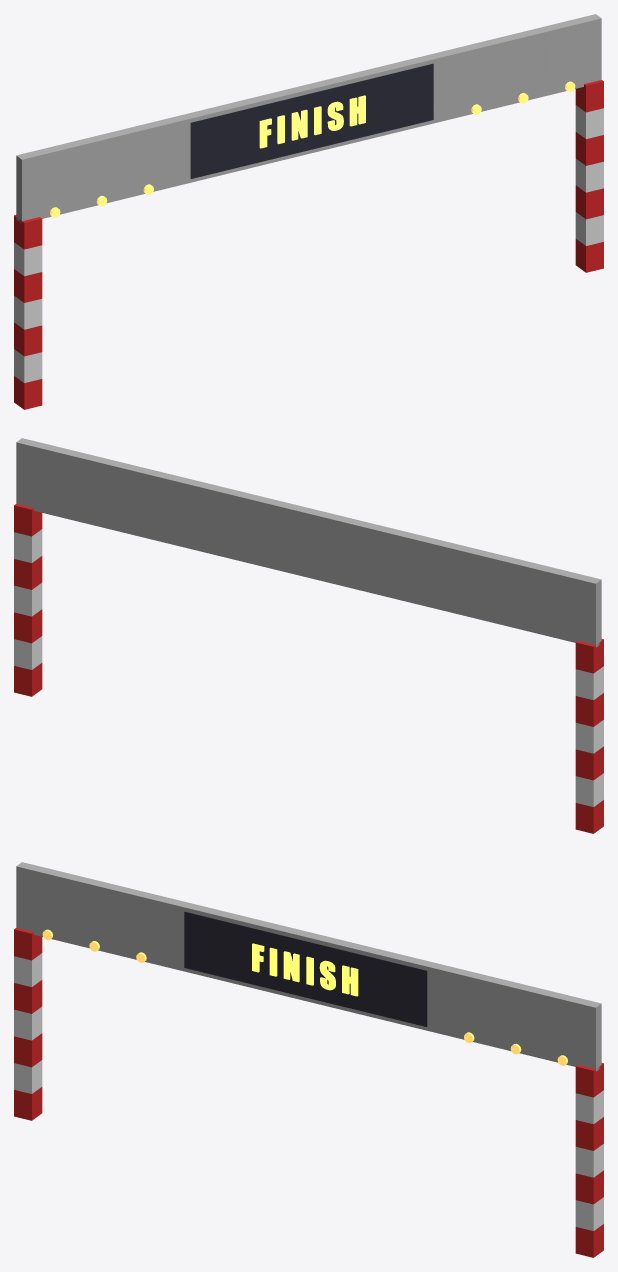
Rendered from gantry_finish.glb.
3 renders of one model, top to bottom at view 1: azimuth 30°, elevation 25°; view 2: azimuth 150°, elevation 25°; view 3: azimuth 330°, elevation 25°, orthographic.
Visible parts, largest first — view 1: banner, lbg, txt, p.006, p.002, p, p.001, p.003, p.010, p.012, p.004, p.009 (+6 smaller); view 2: banner, p.006, p.002, p, p.001, p.003, p.010, p.012, p.004, p.009, p.011, p.005 (+3 smaller); view 3: banner, lbg, txt, p.013, p.009, p.007, p.008, p.003, p.005, p.010, p.002, p.011 (+6 smaller).
Boxes of the visible parts, <box> form: banner: <box>16,14,601,222</box>; lbg: <box>190,63,433,178</box>; txt: <box>259,95,365,148</box>; p.006: <box>14,215,42,249</box>; p.002: <box>14,322,42,356</box>; p: <box>14,376,42,409</box>; p.001: <box>14,349,42,382</box>; p.003: <box>14,296,42,329</box>; p.010: <box>575,158,603,192</box>; p.012: <box>575,105,603,138</box>; p.004: <box>14,269,42,302</box>; p.009: <box>575,185,603,219</box>; banner: <box>16,438,601,647</box>; p.006: <box>575,639,603,673</box>; p.002: <box>575,746,603,780</box>; p: <box>575,800,603,833</box>; p.001: <box>575,773,603,806</box>; p.003: <box>575,720,603,753</box>; p.010: <box>14,582,42,616</box>; p.012: <box>14,529,42,562</box>; p.004: <box>575,693,603,726</box>; p.009: <box>14,609,42,643</box>; p.011: <box>14,556,42,589</box>; p.005: <box>575,666,603,700</box>; banner: <box>16,862,601,1071</box>; lbg: <box>184,911,427,1026</box>; txt: <box>252,943,358,996</box>; p.013: <box>575,1063,603,1097</box>; p.009: <box>575,1170,603,1204</box>; p.007: <box>575,1224,603,1257</box>; p.008: <box>575,1197,603,1230</box>; p.003: <box>14,1006,42,1040</box>; p.005: <box>14,953,42,986</box>; p.010: <box>575,1144,603,1177</box>; p.002: <box>14,1033,42,1067</box>; p.011: <box>575,1117,603,1150</box>.
Bounding box in the file's own units: 22.7 × 9.3 × 0.7.
